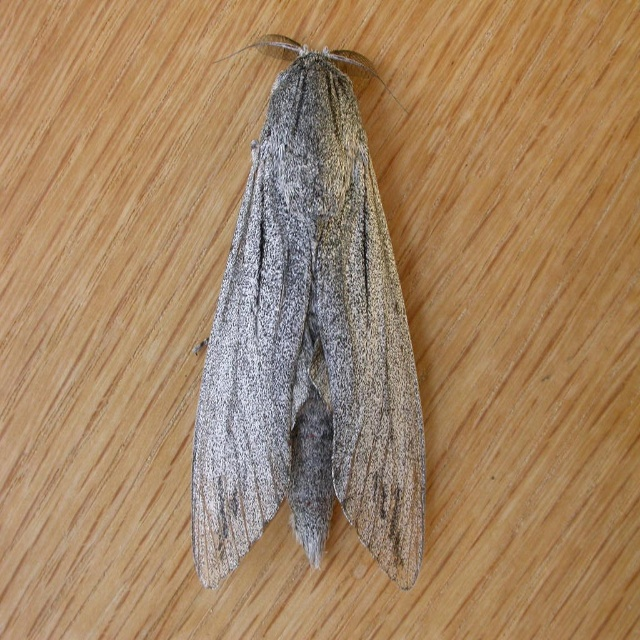Moths and butterflies: (189, 27, 428, 590)
